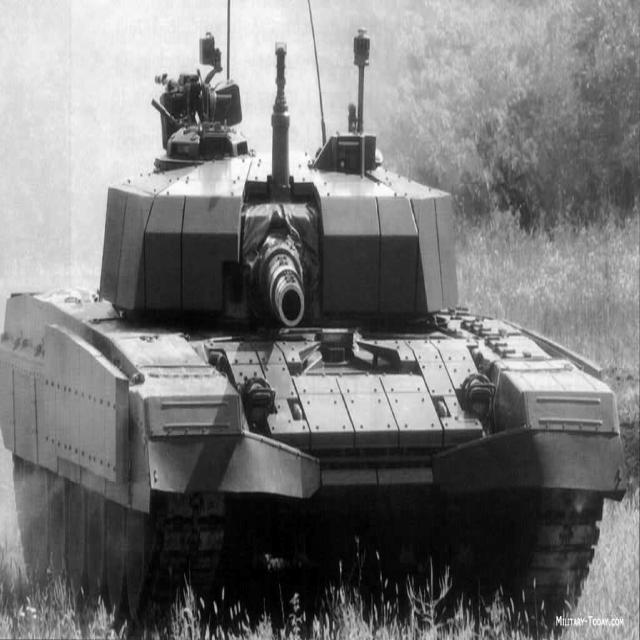Tank: (0, 25, 627, 608)
